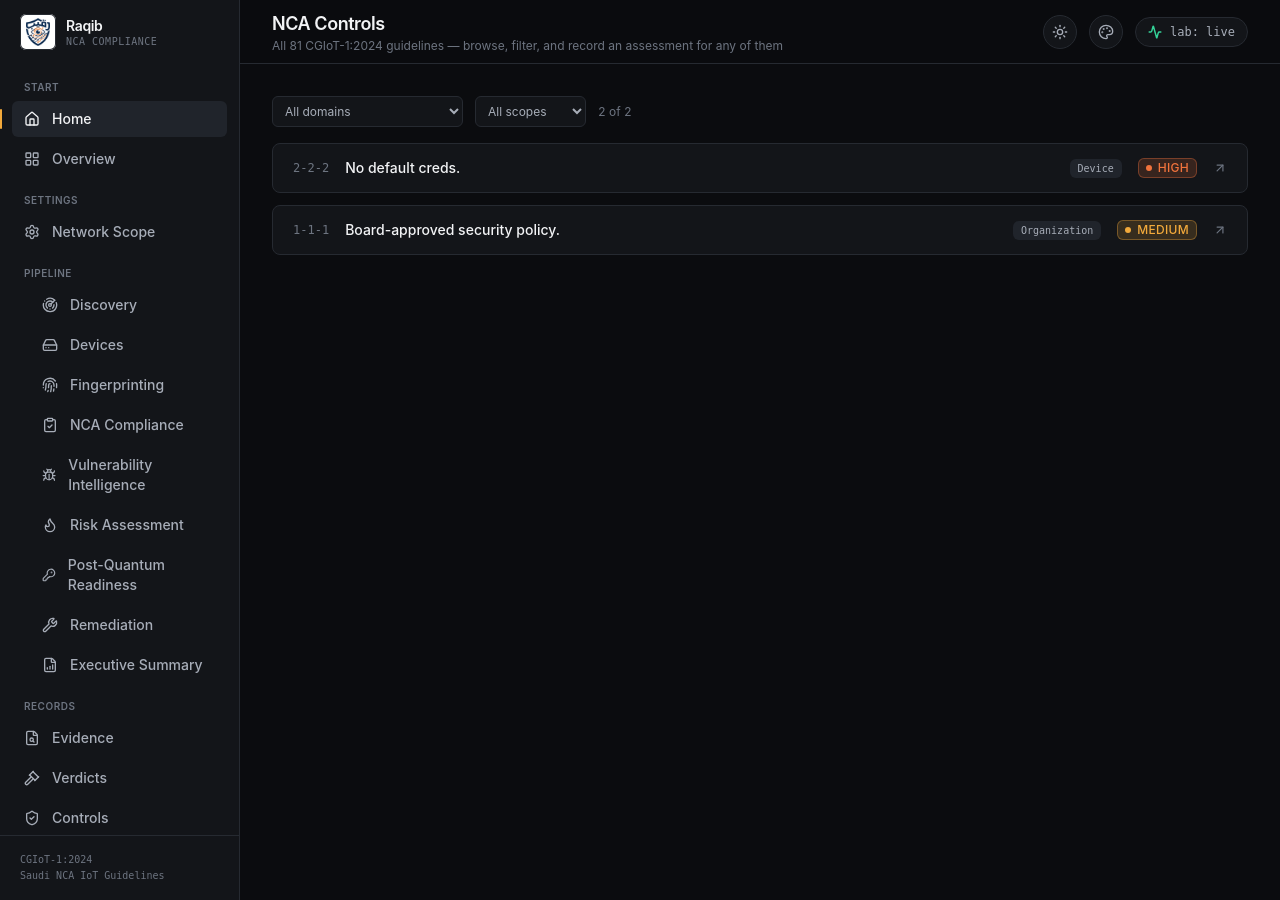
Test: NCAControlsPage › filters by domain
This screenshot has width=1280, height=900.
Expected: the text "No default creds." is shown, 345,159 -> 460,176
Select "Cybersecurity Governance" in the dropdown named "filter by domain" at coordinates (368, 112), box 272,96 -> 463,127
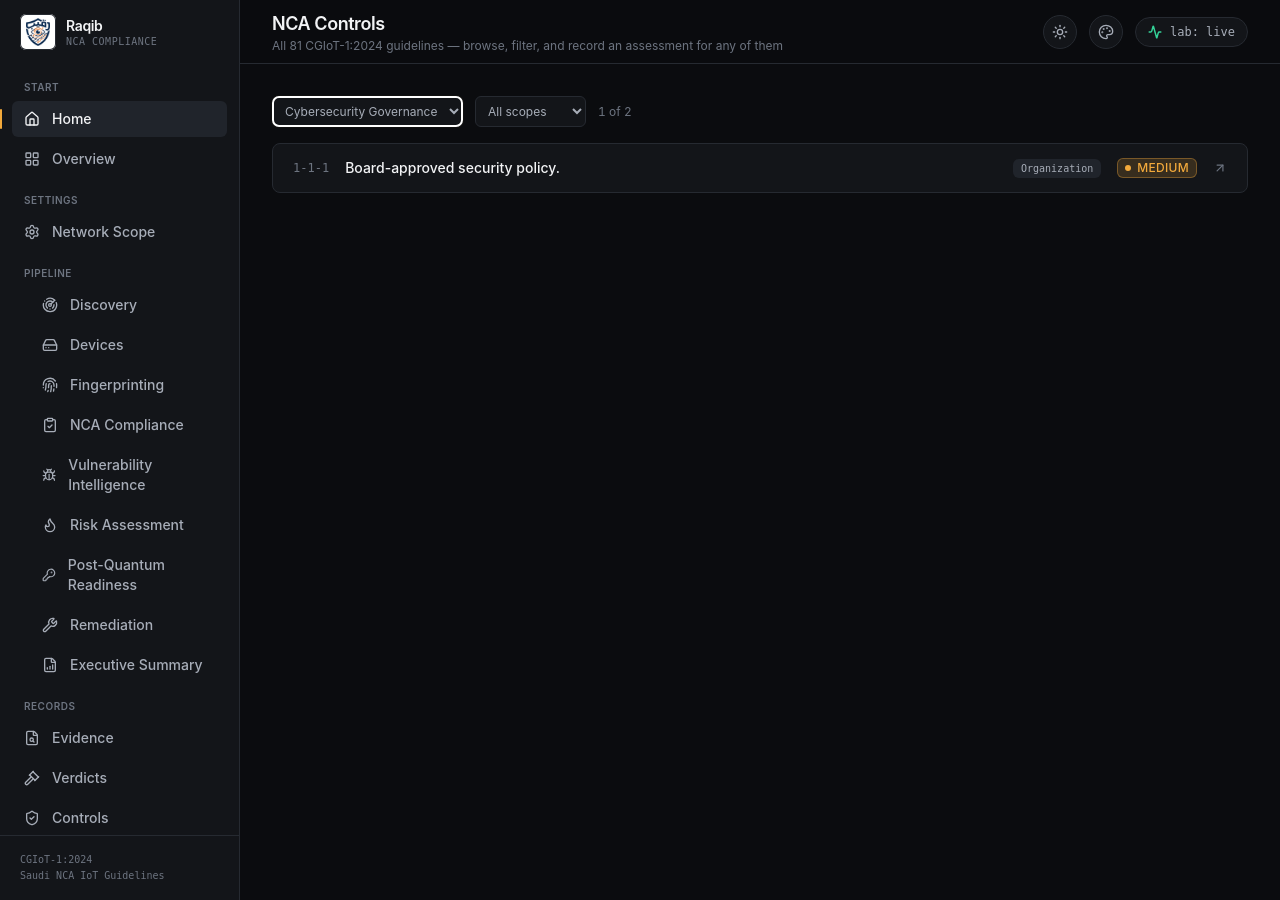
Expected: the text "Board-approved security policy." is shown, 345,159 -> 560,176
Expected: the link "No default creds." is gone
Expected: the text "1 of 2" is shown, 598,104 -> 632,120
